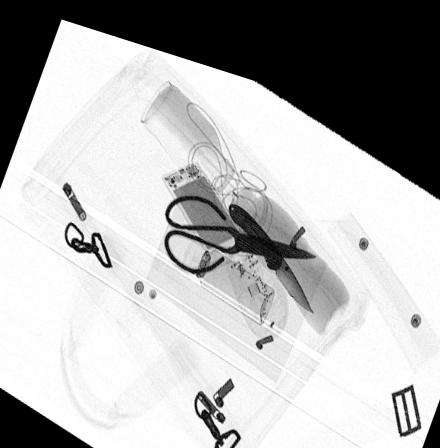Knife: (228, 190, 314, 296)
Powerbank: (160, 149, 241, 241)
Scissors: (163, 183, 317, 262)
Sprayer: (182, 228, 274, 309)
